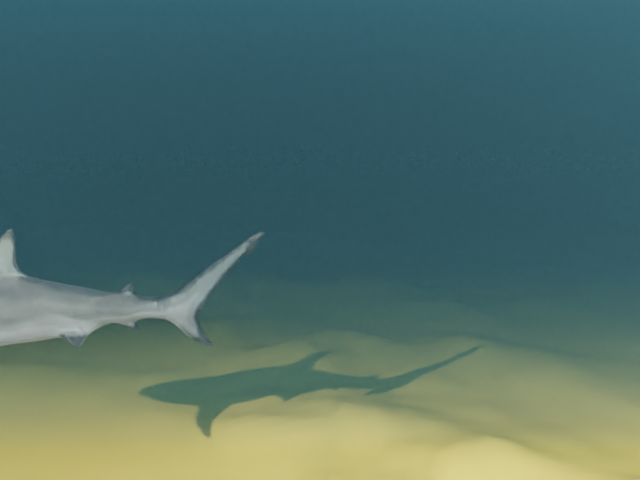Carribean Shark.001: (0, 228, 264, 389)
